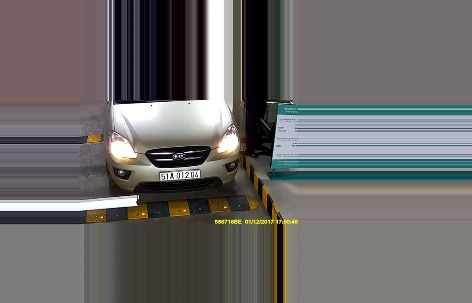plate: (154, 169, 202, 181)
